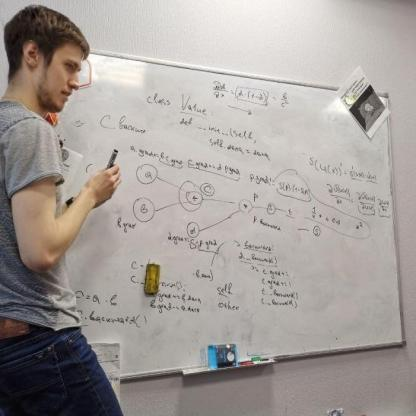Handwritten text: (201, 124, 273, 162), (144, 85, 211, 118), (97, 106, 149, 139), (86, 305, 136, 329)
Lecturer: (1, 1, 125, 416)
Whiteboard: (7, 20, 413, 405)
